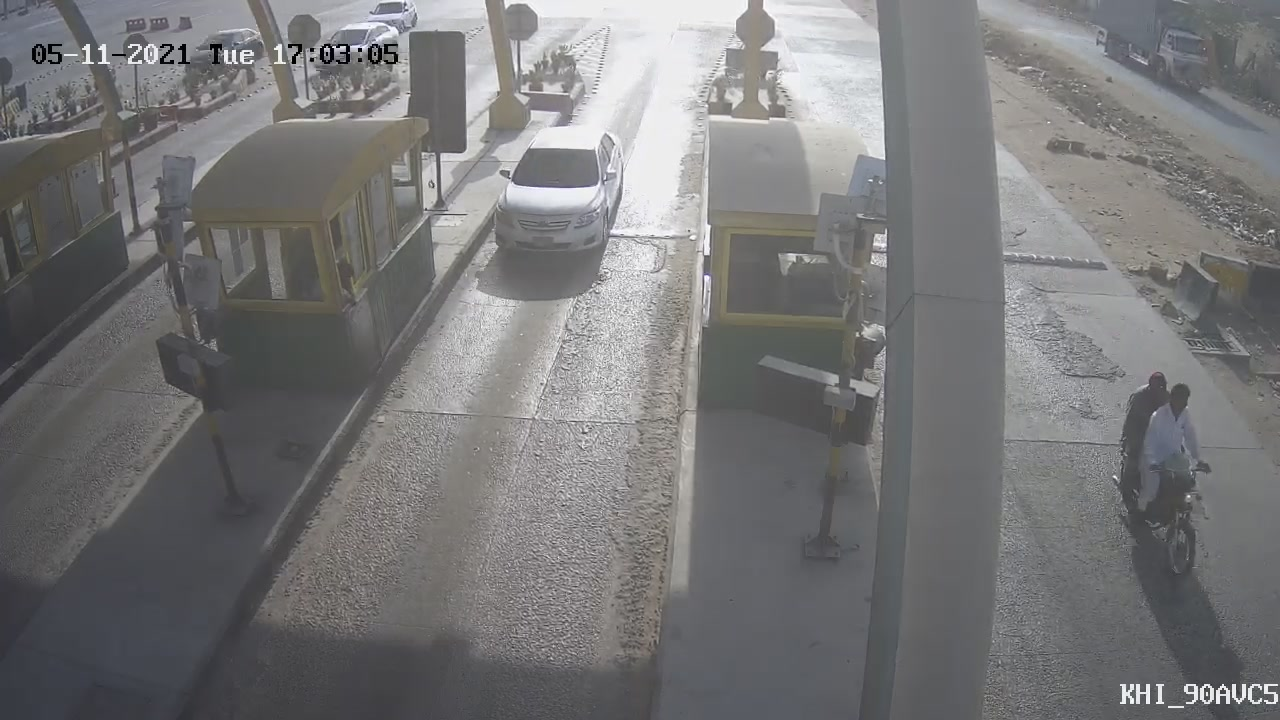F1: (466, 109, 646, 278)
